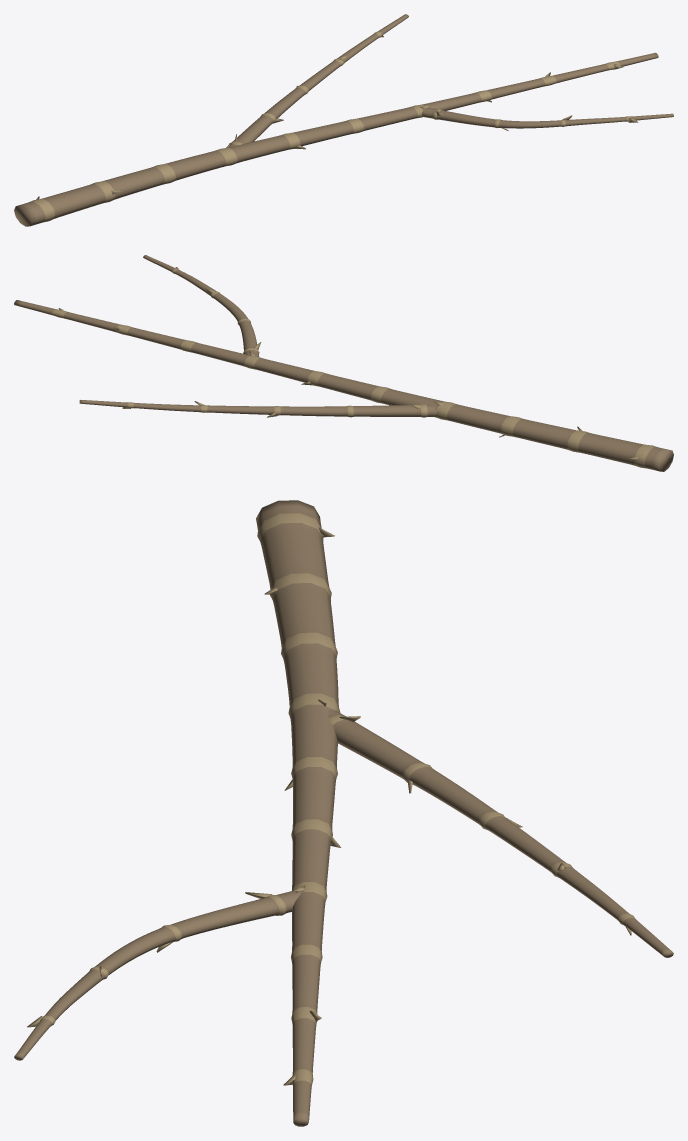
Rendered from pseudofrenelopsis.glb.
The picture shows the model from 3 angles, top to bottom: view 1: azimuth 30°, elevation 25°; view 2: azimuth 150°, elevation 25°; view 3: azimuth 270°, elevation 25°; orthographic projection. The views are drawn at different scales.
Parts seen in each view (by area): view 1: preserved-continuous-tapered-jointed-shoots, reduced-helically-placed-leaf-tips; view 2: preserved-continuous-tapered-jointed-shoots, reduced-helically-placed-leaf-tips; view 3: preserved-continuous-tapered-jointed-shoots, reduced-helically-placed-leaf-tips.
Boxes of the visible parts, box(x1,y1,x2,y2) form: preserved-continuous-tapered-jointed-shoots: box(14, 14, 673, 226); reduced-helically-placed-leaf-tips: box(36, 35, 638, 199); preserved-continuous-tapered-jointed-shoots: box(14, 255, 673, 471); reduced-helically-placed-leaf-tips: box(58, 267, 638, 460); preserved-continuous-tapered-jointed-shoots: box(14, 500, 673, 1126); reduced-helically-placed-leaf-tips: box(27, 527, 631, 1085).
Bounding box in the file's own units: 0.22 × 0.0075 × 0.1003.
